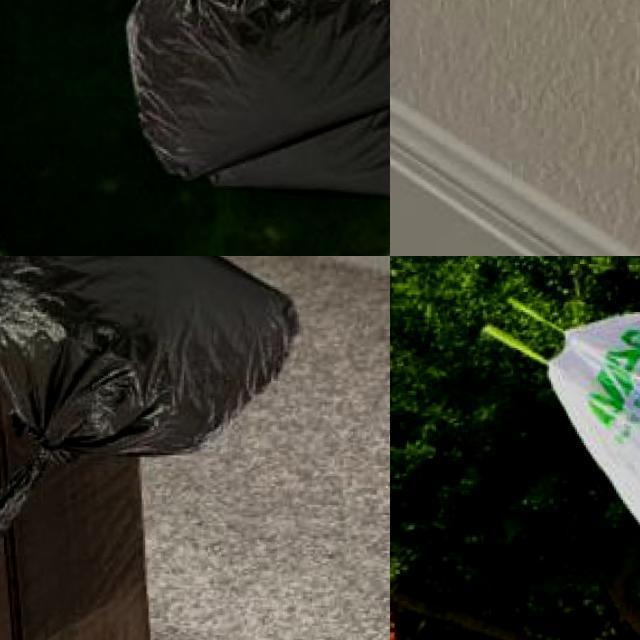waste: (0, 256, 291, 546), (117, 0, 390, 197), (548, 302, 640, 640)
